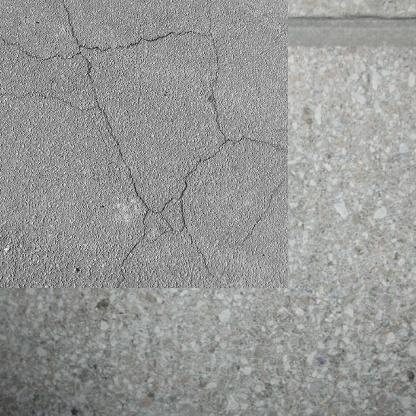Cracks: (0, 0, 266, 266), (221, 164, 266, 229)
